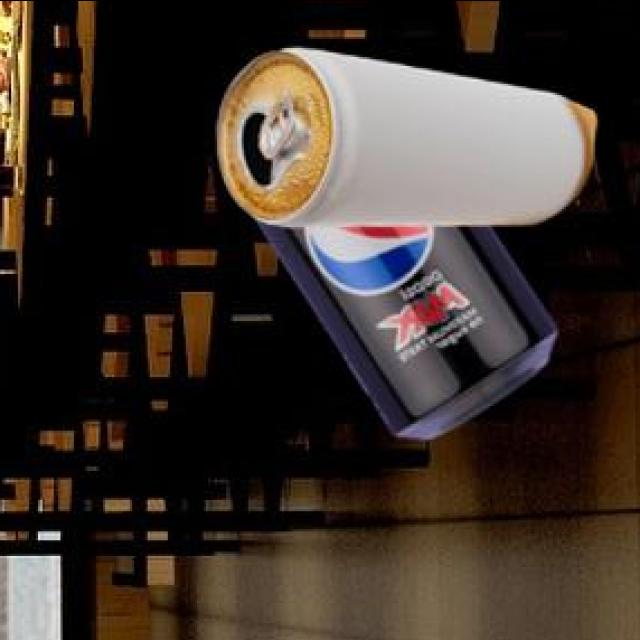logam: (214, 44, 592, 220), (254, 217, 554, 435)
